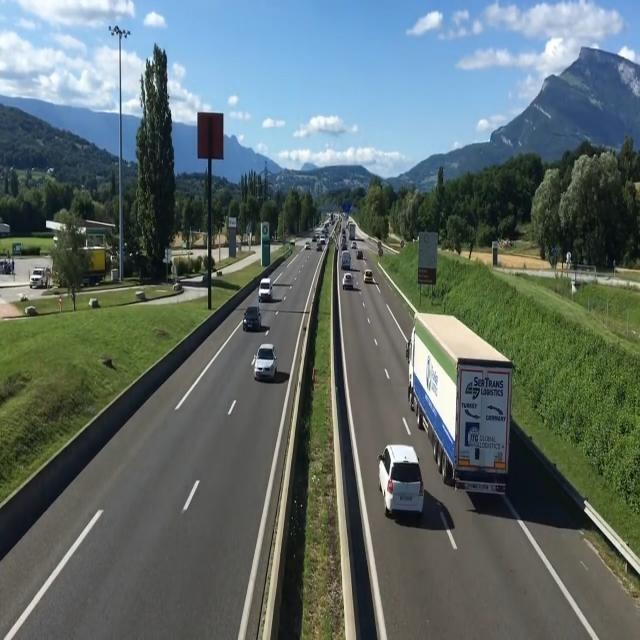Car: (378, 444, 426, 518), (254, 344, 280, 379), (242, 306, 262, 331), (342, 273, 354, 290), (363, 269, 373, 284)
Truck: (406, 308, 515, 496)
Van: (257, 277, 273, 302)
